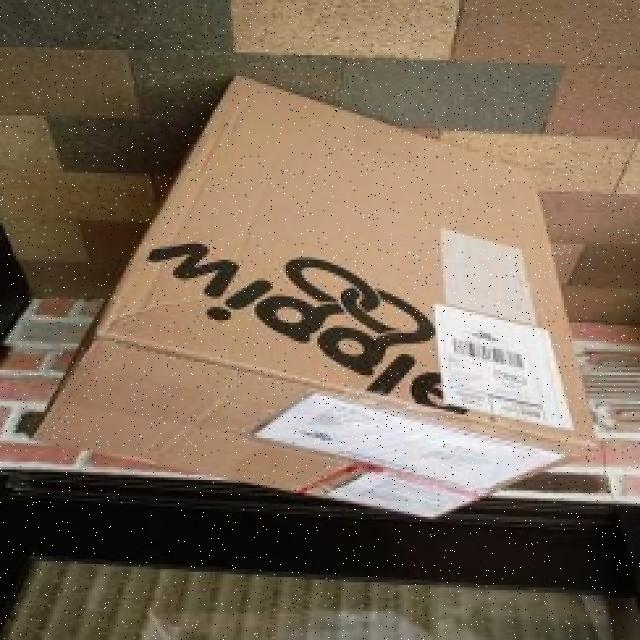box: (4, 56, 636, 542)
